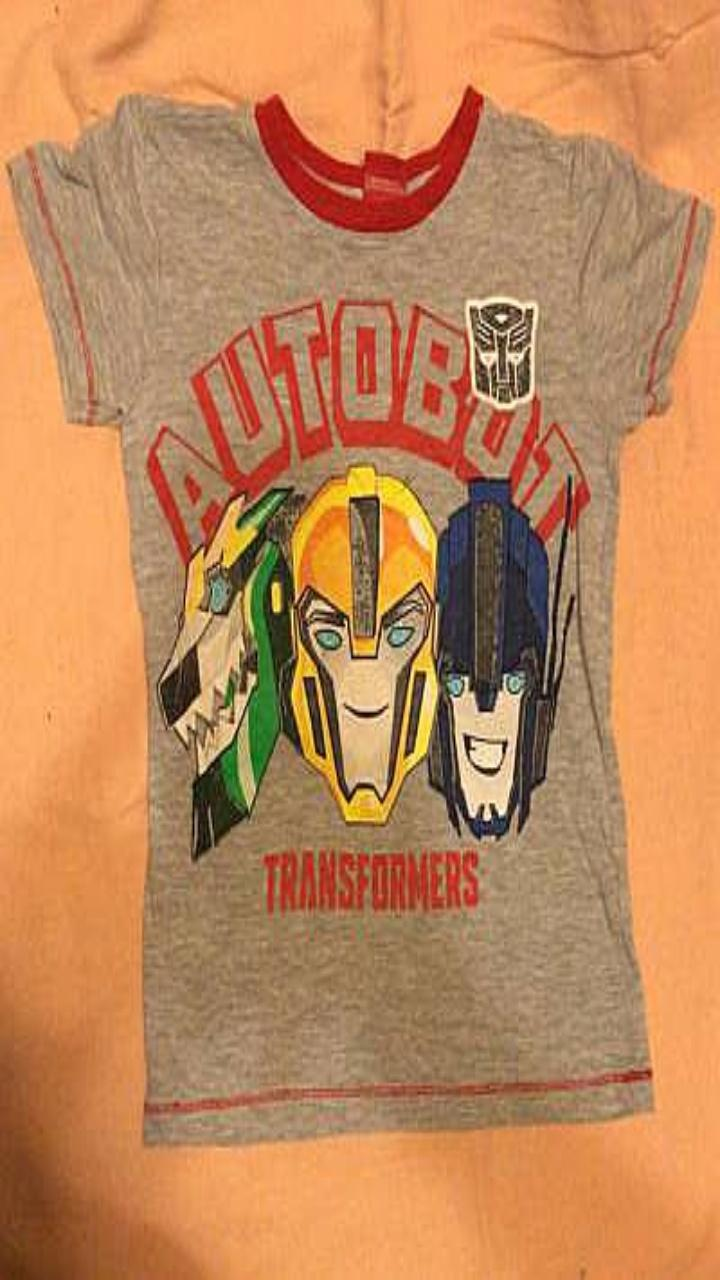T-Shirt: (8, 85, 714, 1143)
